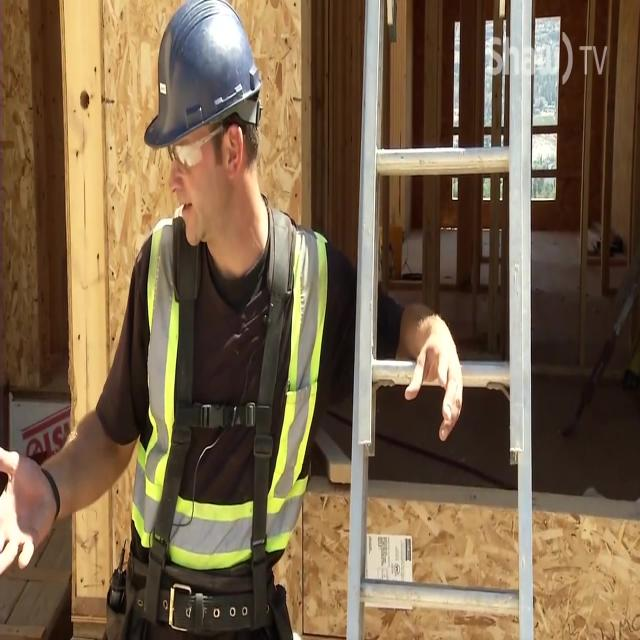Reflective-Jacket: (118, 212, 336, 604)
Safety-Helmet: (139, 1, 266, 163)
